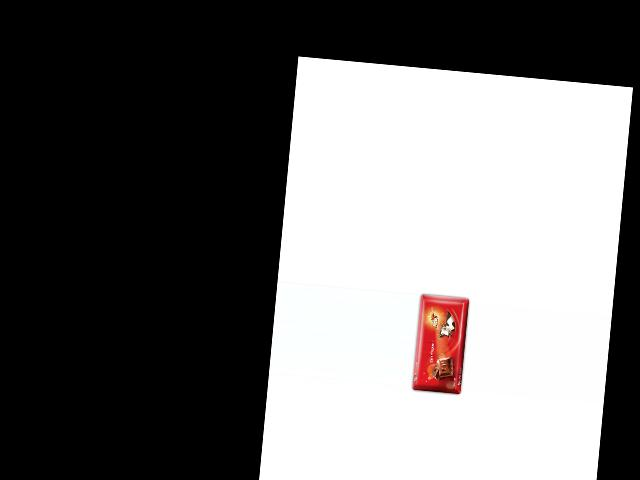chocolate: (411, 288, 473, 396)
